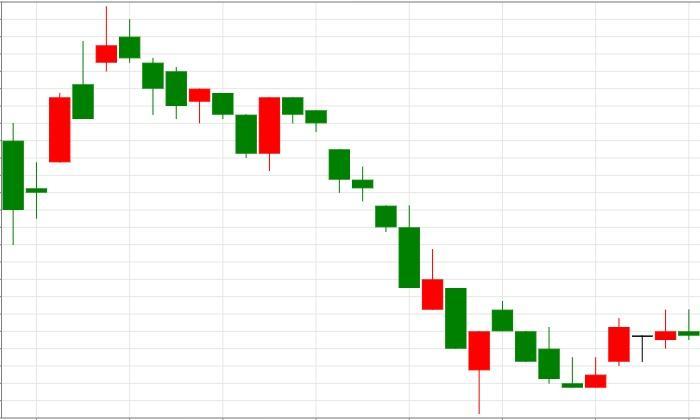bullish_engulfing_rise: (119, 19, 280, 172), (491, 301, 608, 388)
